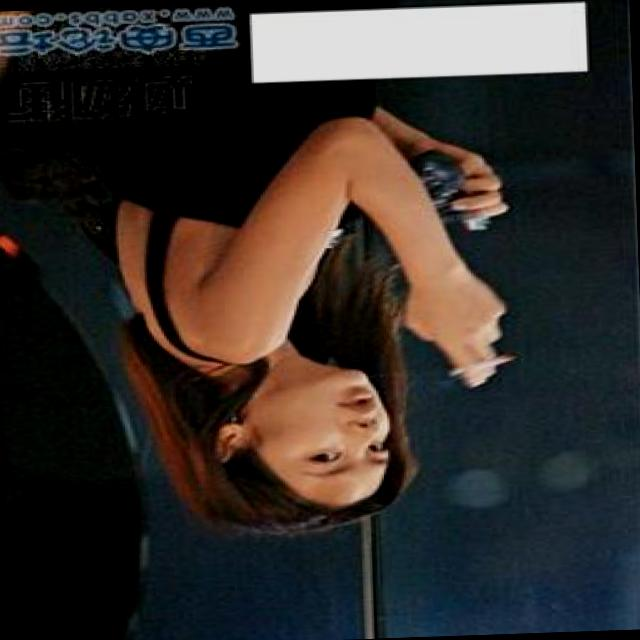smoke: (426, 342, 540, 382)
